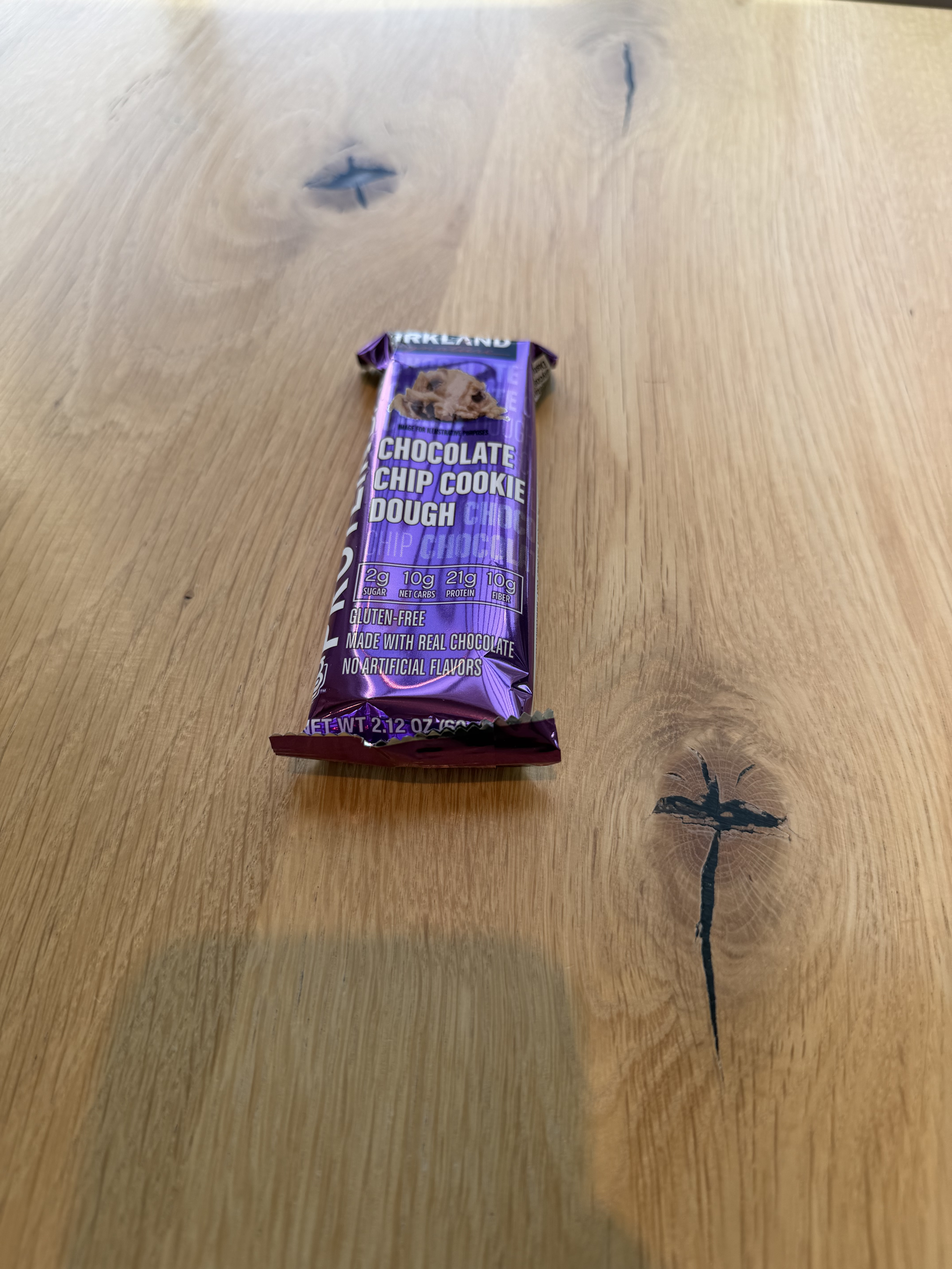chocolate_chip_cookie_dough: (313, 301, 577, 790)
